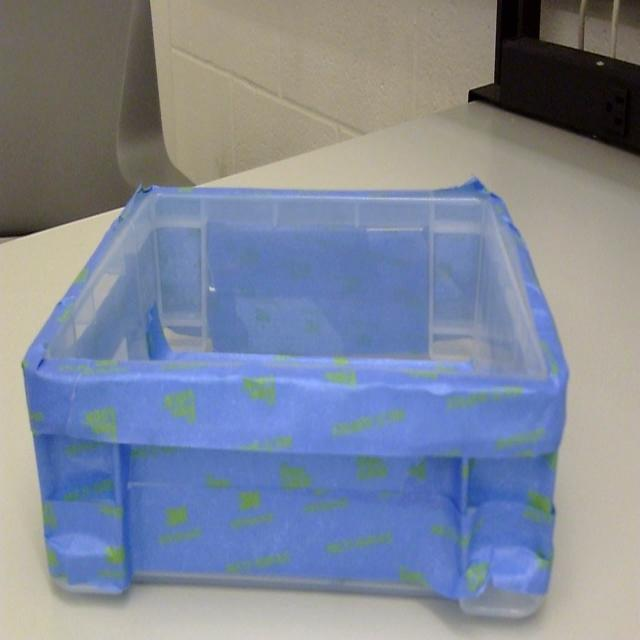bucket: (20, 181, 570, 628)
